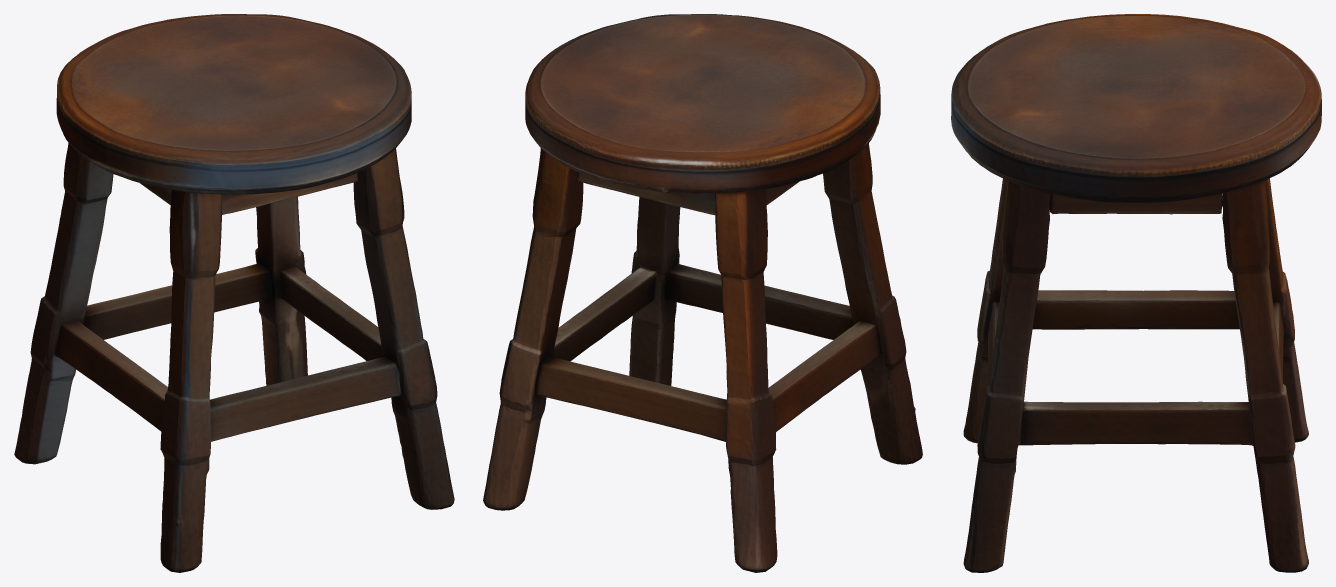
3 renders of one model, left to right at view 1: azimuth 30°, elevation 25°; view 2: azimuth 150°, elevation 25°; view 3: azimuth 270°, elevation 25°, orthographic. The views are drawn at different scales.
Visible parts, largest first — view 1: world; view 2: world; view 3: world.
Part boxes in pixels (x1=…): world: x1=14, y1=14, x2=454, y2=572; world: x1=483, y1=14, x2=922, y2=572; world: x1=951, y1=14, x2=1321, y2=572.
Bounding box in the file's own units: 0.8058 × 0.9994 × 0.8067.
1 material, 1 textured.
